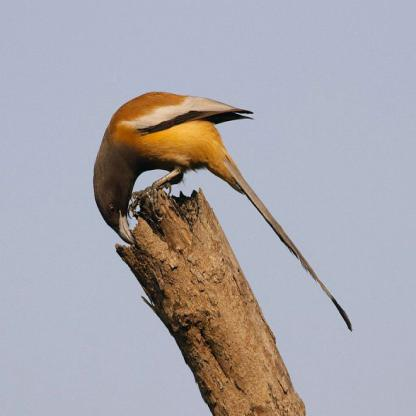Burung: (93, 91, 352, 331)
